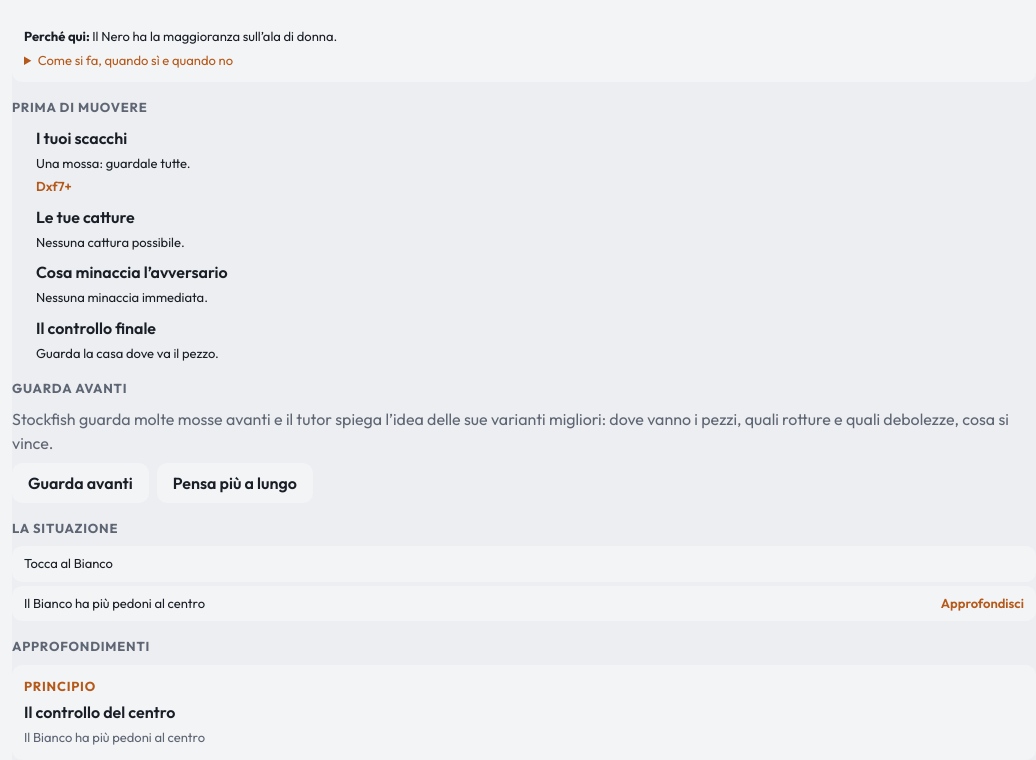
TutorPanel › mostra la spiegazione e apre la scheda con «Approfondisci»
(page scrolled)
Expected: the text "Tocca al Bianco" is shown, x1=24 y1=554 x2=113 y2=574
Click the button "Approfondisci": [982, 604] box x1=941 y1=594 x2=1024 y2=613
(page scrolled)
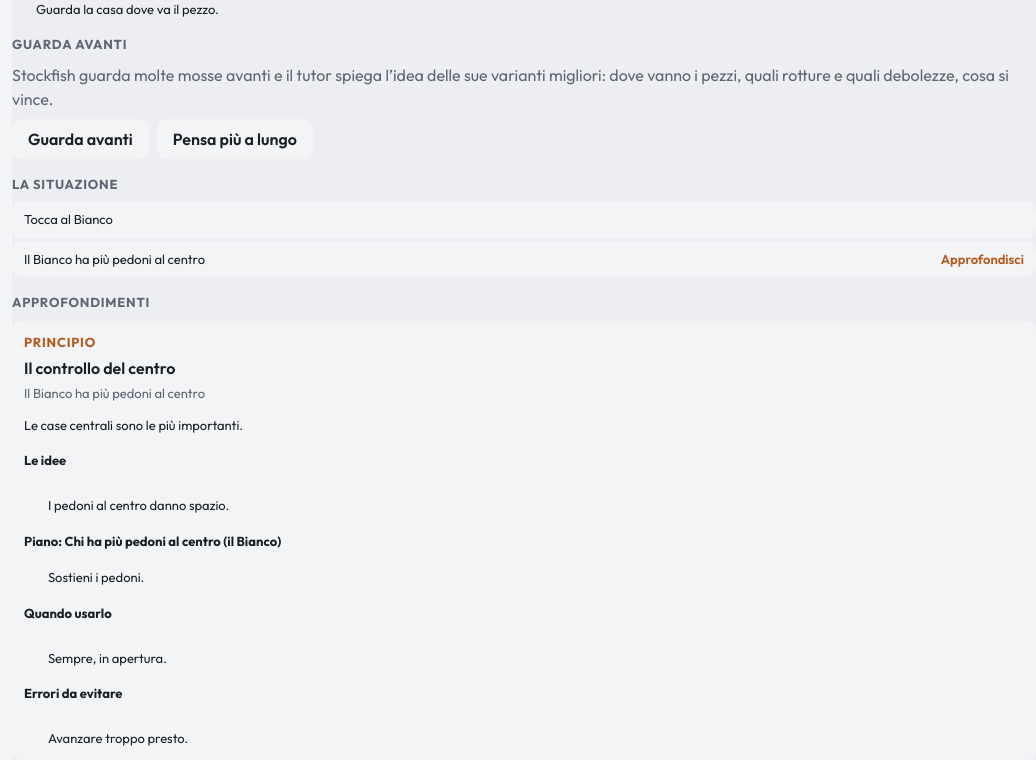
Now the heading "Piano: Chi ha più pedoni al centro (il Bianco)" is shown, box x1=24 y1=533 x2=281 y2=549
